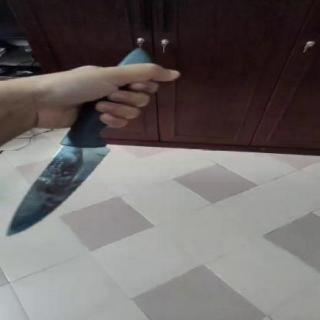knife: (10, 140, 107, 238)
